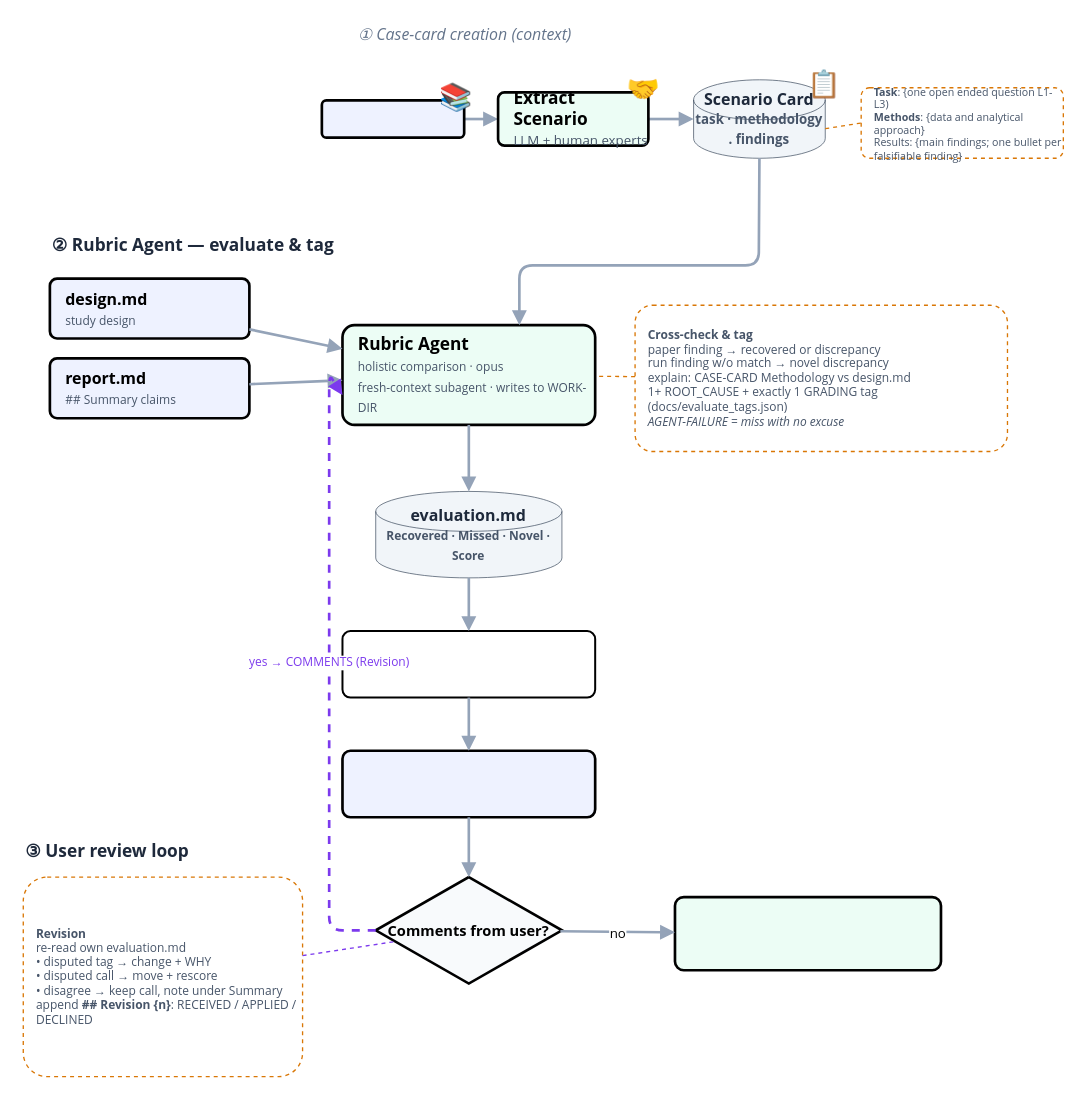
This 1087x1100 diagram has some shape labels left out. Each missing label, with the centre of its shape:
"Evaluation stands no further comments" belongs at point (807, 933).
"Render & serve render_review_artifact.py → serve_dashboard.sh" belongs at point (468, 663).
"Scientific Article" belongs at point (392, 118).
"URL → User orchestrator presents link, provisional" belongs at point (468, 783).
